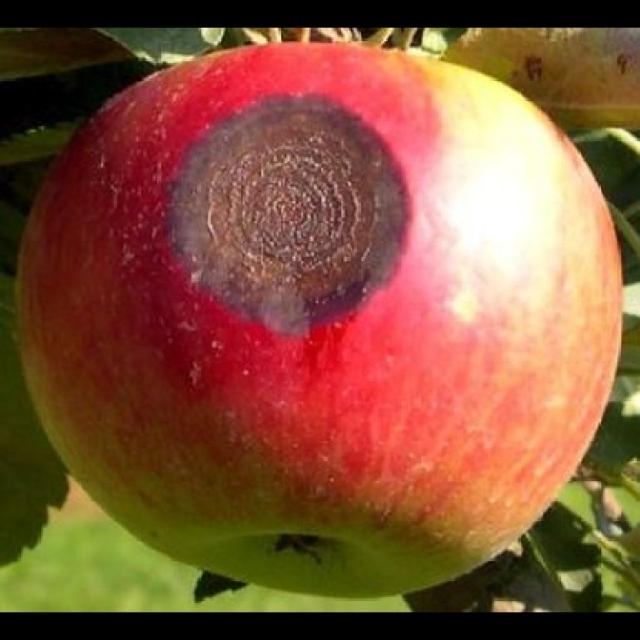Rotten Apple: (14, 39, 623, 602)
